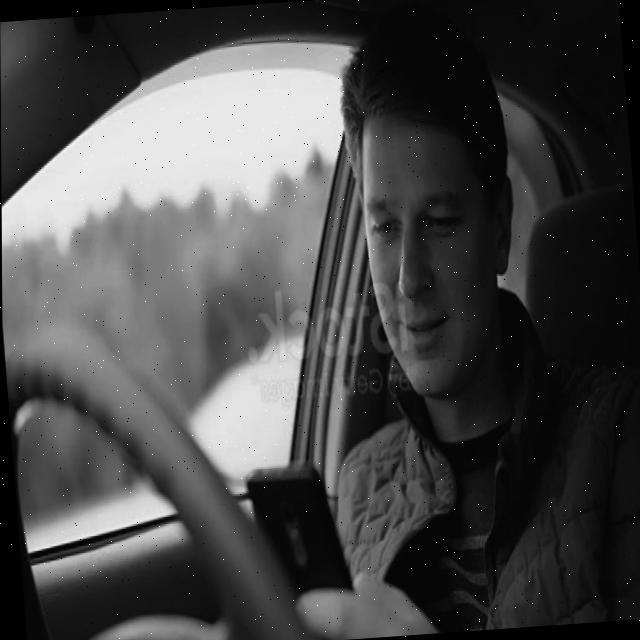PhoneCall: (246, 458, 356, 614)
